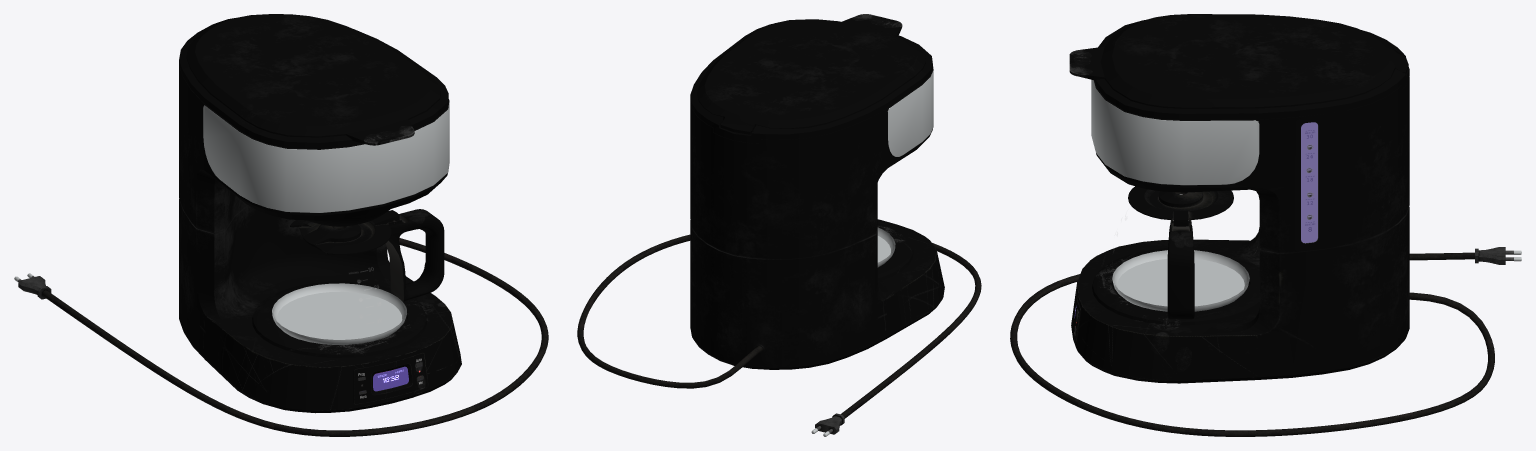
3 renders of one model, left to right at view 1: azimuth 30°, elevation 25°; view 2: azimuth 150°, elevation 25°; view 3: azimuth 270°, elevation 25°, orthographic. The views are drawn at different scales.
Parts seen in each view (by area): view 1: Body, Jar, Cable, JarHold, JarCup, Plug; view 2: Body, Cable, Jar, Plug; view 3: Body, Cable, Jar, JarCup, JarHold, Plug.
Boxes of the visible parts, bbox=[...] form: Body: bbox=[179, 14, 461, 413]; Jar: bbox=[272, 271, 406, 344]; Cable: bbox=[42, 238, 548, 436]; JarHold: bbox=[385, 209, 444, 301]; JarCup: bbox=[290, 210, 399, 254]; Plug: bbox=[14, 273, 51, 299]; Body: bbox=[690, 14, 944, 369]; Cable: bbox=[577, 234, 981, 418]; Jar: bbox=[877, 227, 895, 267]; Plug: bbox=[811, 413, 844, 436]; Body: bbox=[1069, 14, 1409, 383]; Cable: bbox=[1010, 252, 1494, 436]; Jar: bbox=[1112, 250, 1249, 311]; JarCup: bbox=[1128, 186, 1233, 226]; JarHold: bbox=[1167, 218, 1194, 319]; Plug: bbox=[1475, 247, 1521, 264].
Size of the model in its own units: 47.2 by 33.53 by 55.68.
Materials: 8 (8 with a texture image).
